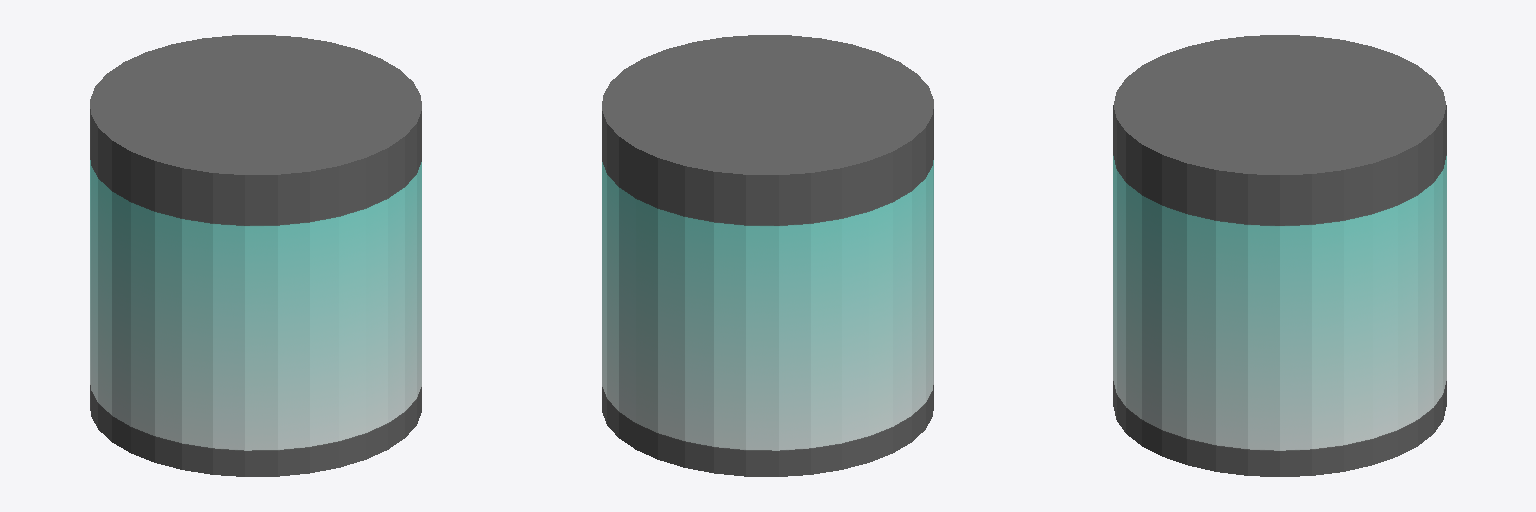
The picture shows the model from 3 angles: view 1: azimuth 30°, elevation 25°; view 2: azimuth 150°, elevation 25°; view 3: azimuth 270°, elevation 25°; orthographic projection.
Visible parts, largest first — view 1: 円柱; view 2: 円柱; view 3: 円柱.
Boxes of the visible parts, box(x1,y1,x2,y2) form: 円柱: box(90, 35, 421, 476); 円柱: box(602, 35, 933, 476); 円柱: box(1113, 35, 1446, 476).
Size of the model in its own units: 0.5561 by 0.5561 by 0.5561.
Materials: 1 (1 with a texture image).